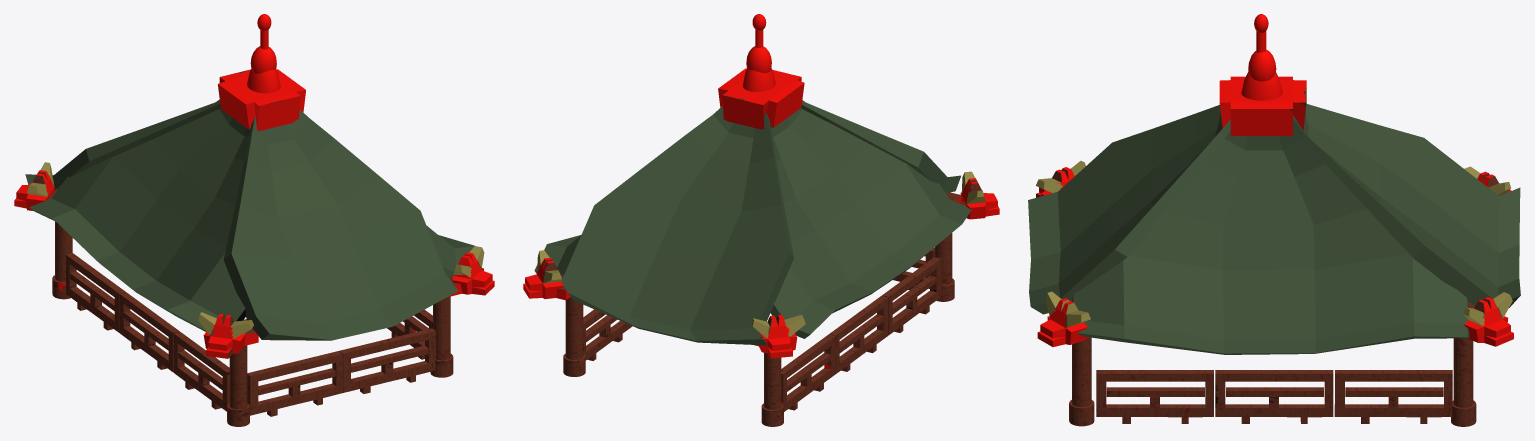
File: BaseRed.fbx
3 renders of one model, left to right at view 1: azimuth 30°, elevation 25°; view 2: azimuth 150°, elevation 25°; view 3: azimuth 270°, elevation 25°, orthographic. The views are drawn at different scales.
Parts seen in each view (by area): view 1: polySurface1; view 2: polySurface1; view 3: polySurface1.
Boxes of the visible parts, x1=… form: polySurface1: x1=14, y1=14, x2=494, y2=426; polySurface1: x1=523, y1=14, x2=999, y2=426; polySurface1: x1=1028, y1=14, x2=1520, y2=426.
Bounding box in the file's own units: 53.75 × 55.08 × 69.31.
1 material, 1 textured.
